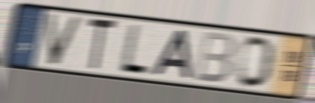A: (150, 28, 194, 81)
B: (192, 30, 237, 85)
L: (117, 22, 150, 77)
O: (235, 35, 278, 90)
T: (87, 15, 119, 73)
V: (44, 12, 85, 68)
